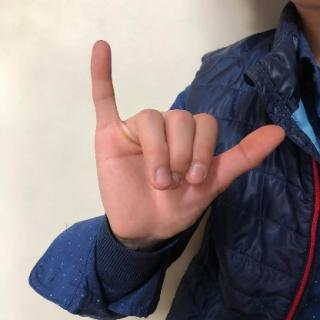YA: (86, 37, 290, 249)
